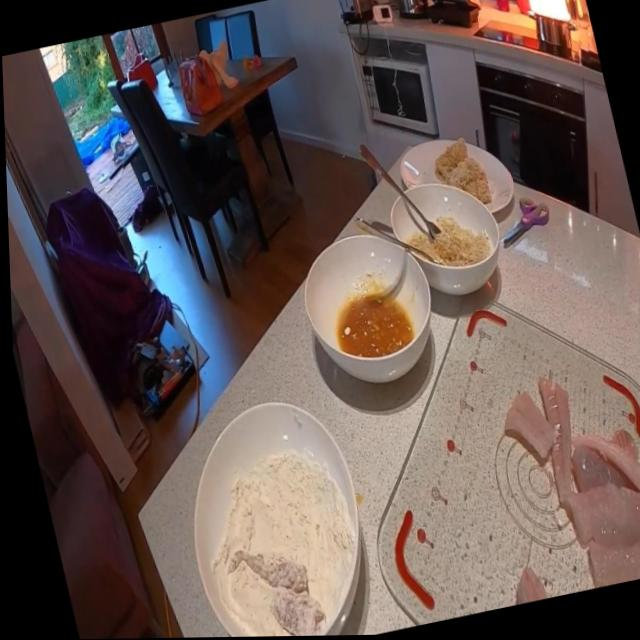fire: (509, 0, 575, 33)
